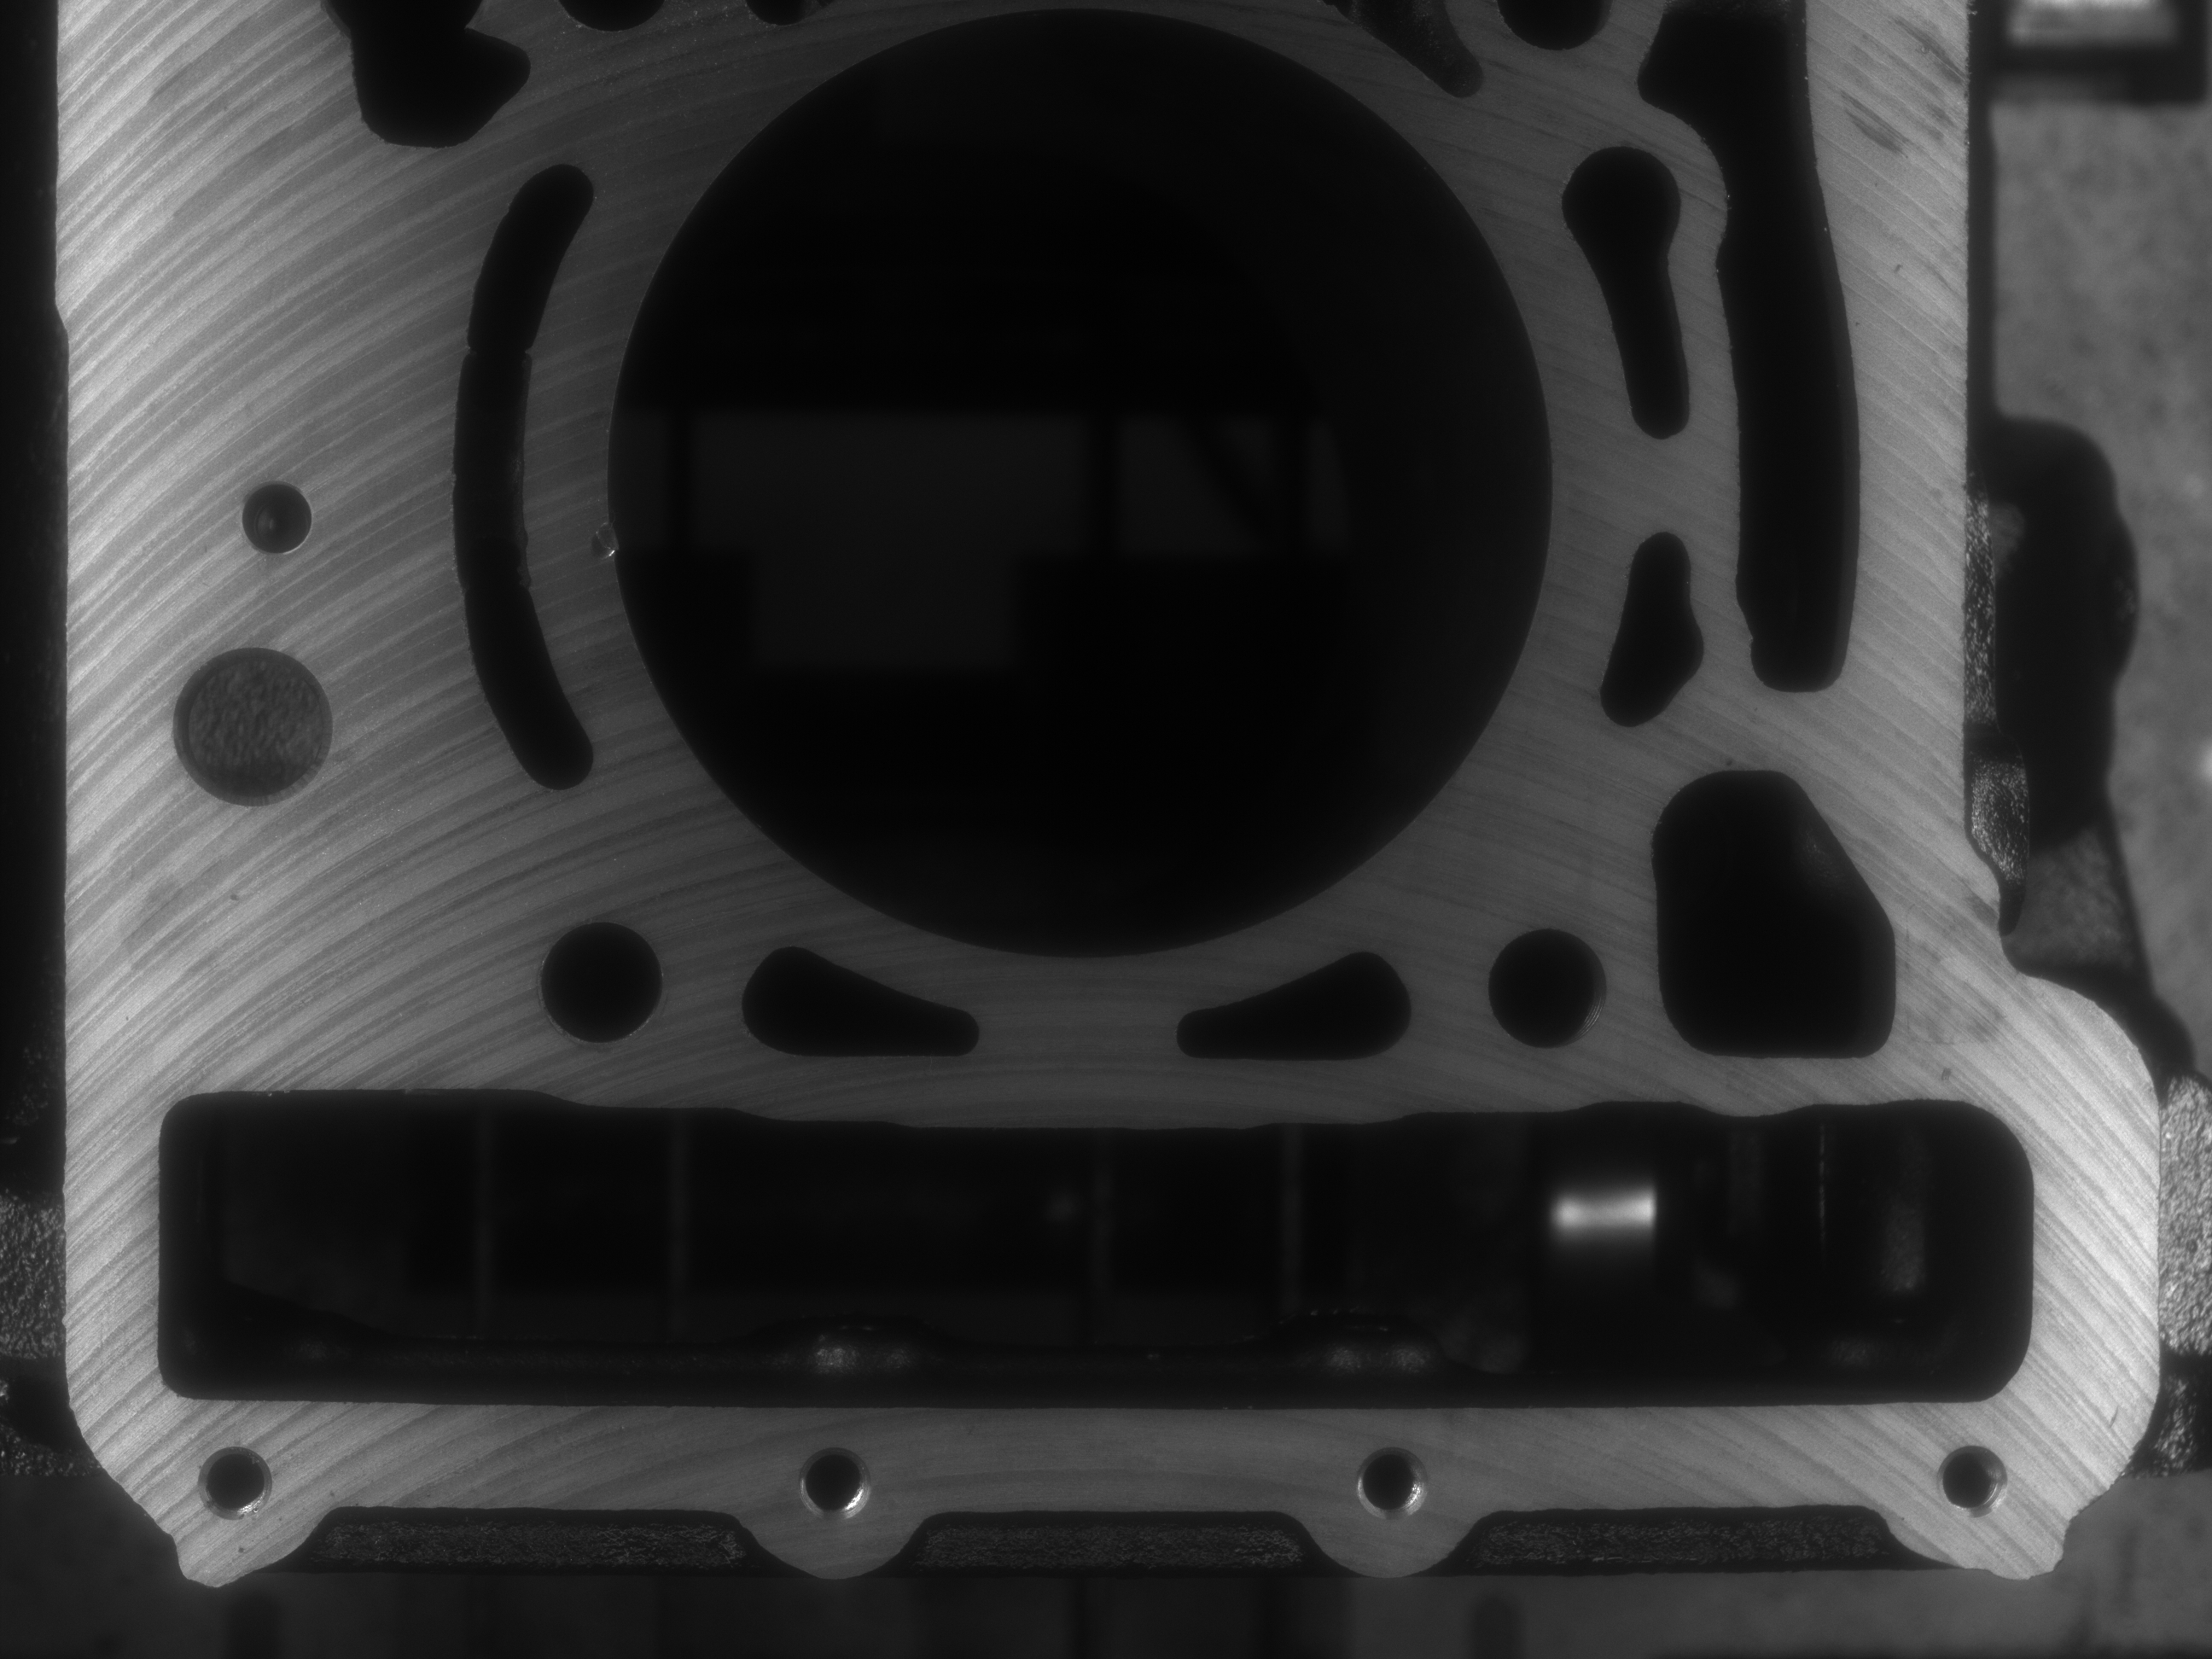shrinkage: (580, 521, 613, 558)
